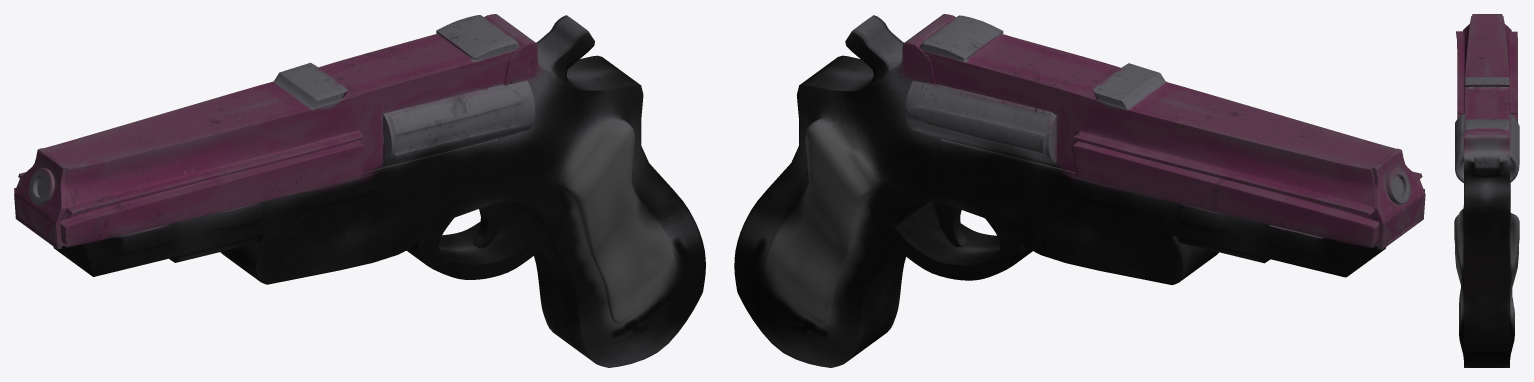
The model's file is desdtiny.fbx.
The picture shows the model from 3 angles, left to right: view 1: azimuth 30°, elevation 25°; view 2: azimuth 150°, elevation 25°; view 3: azimuth 270°, elevation 25°; orthographic projection. The views are drawn at different scales.
Visible parts, largest first — view 1: destiny2:gpPipe4_pPipe4; view 2: destiny2:gpPipe4_pPipe4; view 3: destiny2:gpPipe4_pPipe4.
Part boxes in pixels (<box>): destiny2:gpPipe4_pPipe4: <box>14,14,705,367</box>; destiny2:gpPipe4_pPipe4: <box>734,14,1425,367</box>; destiny2:gpPipe4_pPipe4: <box>1454,14,1519,367</box>.
Bounding box in the file's own units: 26.29 × 13.47 × 3.94.
Materials: 1 (1 with a texture image).
